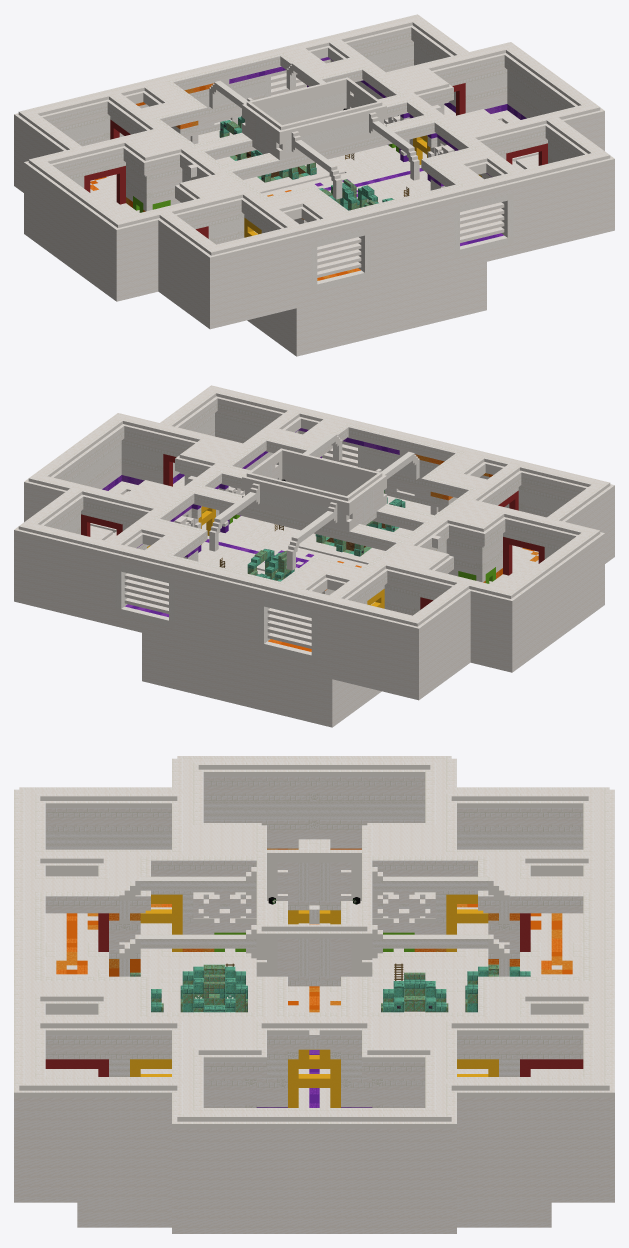
Rendered from minecraft.obj.
3 views of the same model, one above another, from view 1: azimuth 30°, elevation 25°; view 2: azimuth 150°, elevation 25°; view 3: azimuth 270°, elevation 25° (orthographic). The views are drawn at different scales.
Size of the model in its own units: 82 by 28 by 57.
